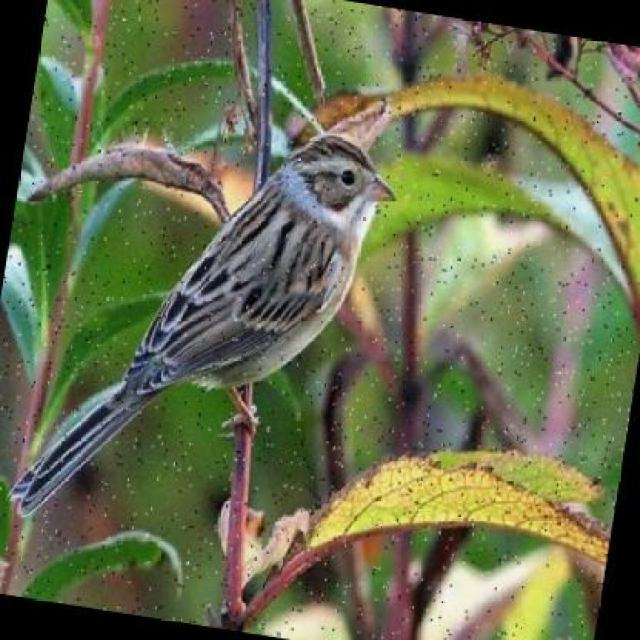Bird: (8, 131, 400, 516)
